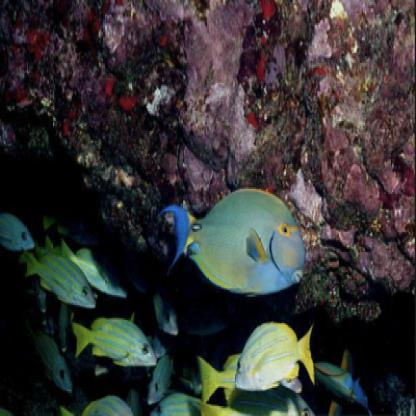surgeon: (157, 188, 307, 293)
